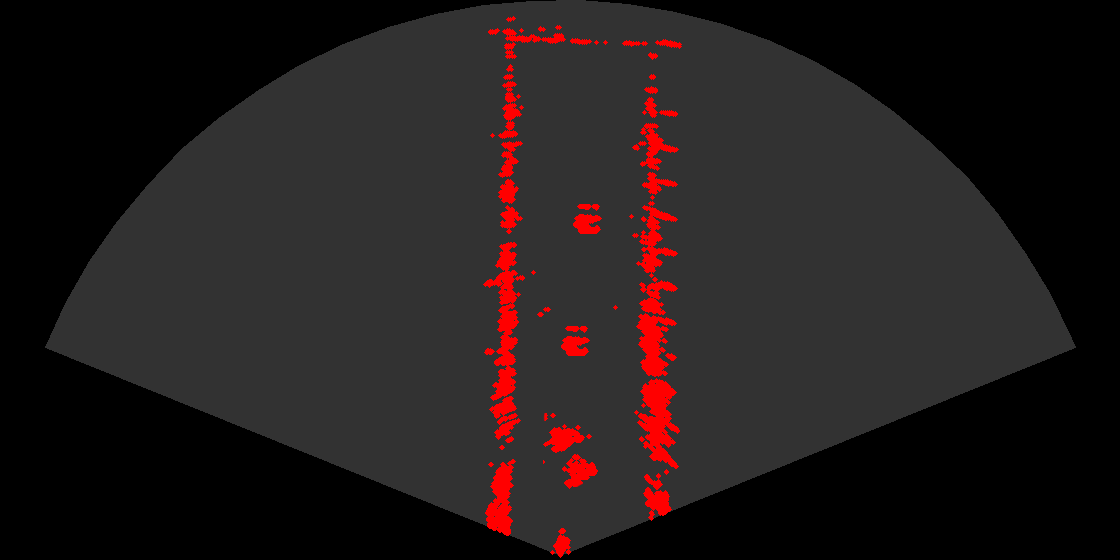ball: (541, 318, 601, 359), (553, 196, 613, 237)
cage: (543, 413, 606, 497)
